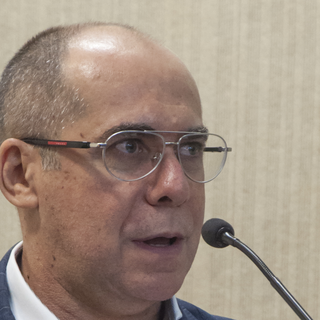eye: (109, 135, 150, 161), (174, 138, 204, 162)
